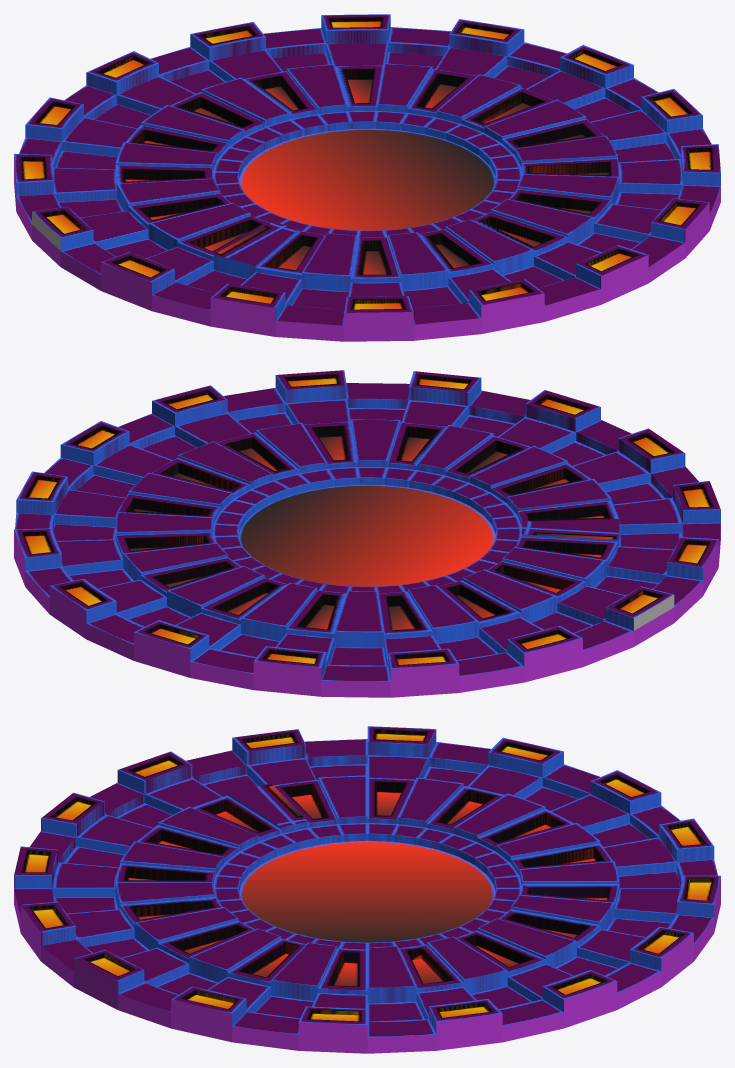
Rendered from EndGate.fbx.
3 views of the same model, one above another, from view 1: azimuth 30°, elevation 25°; view 2: azimuth 150°, elevation 25°; view 3: azimuth 270°, elevation 25° (orthographic).
Parts seen in each view (by area): view 1: Cylinder; view 2: Cylinder; view 3: Cylinder.
Part boxes in pixels (<box>): Cylinder: <box>14,14,720,341</box>; Cylinder: <box>14,370,720,697</box>; Cylinder: <box>14,726,720,1053</box>.
Size of the model in its own units: 20 by 0.8979 by 20.
3 materials, 1 textured.
